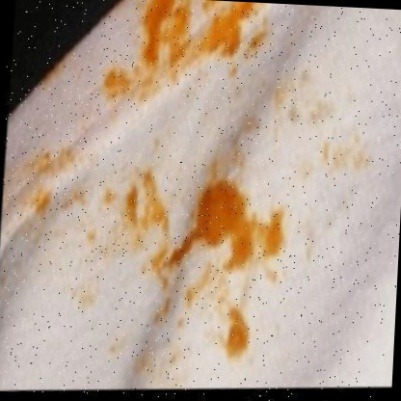kimchi: (21, 142, 118, 218), (167, 185, 256, 267), (209, 102, 264, 188), (115, 165, 167, 242), (112, 54, 196, 100), (120, 326, 189, 381), (79, 215, 115, 304), (177, 268, 228, 324), (204, 0, 251, 58), (249, 206, 293, 262), (223, 308, 263, 361), (140, 0, 175, 54), (319, 129, 368, 165), (272, 76, 316, 114), (177, 0, 198, 55), (154, 296, 175, 330)
